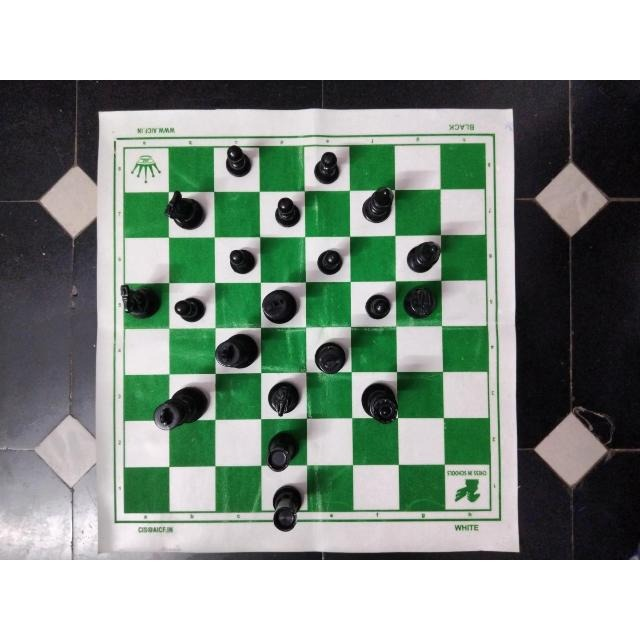black-bishop: (405, 237, 447, 275), (361, 184, 397, 225)
black-king: (151, 382, 211, 434), (307, 334, 351, 378), (214, 334, 259, 374), (260, 287, 300, 325)
black-knight: (160, 190, 209, 234), (118, 281, 163, 321), (400, 285, 441, 325), (265, 377, 302, 419)
black-pawn: (225, 243, 261, 281), (271, 195, 305, 231), (220, 142, 253, 178), (173, 292, 209, 325), (310, 151, 343, 185), (362, 292, 396, 324), (312, 246, 347, 277)
black-queen: (357, 380, 401, 425)
black-rook: (259, 429, 303, 473), (264, 483, 301, 535)
